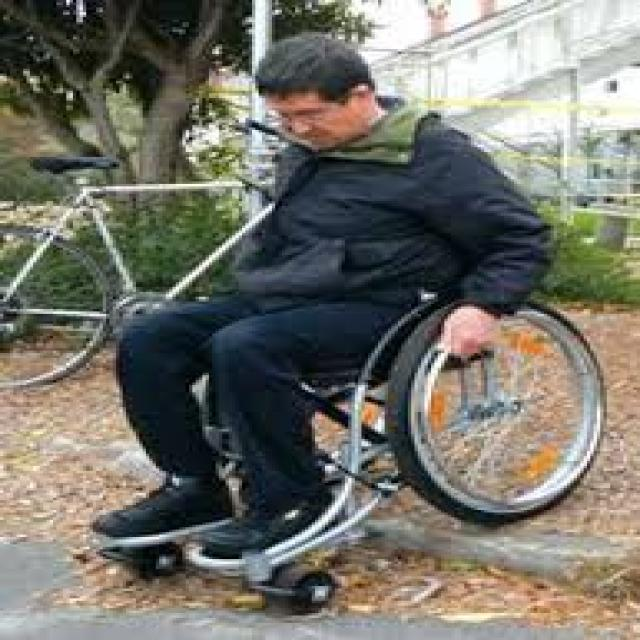wheelchairs: (202, 299, 620, 606)
